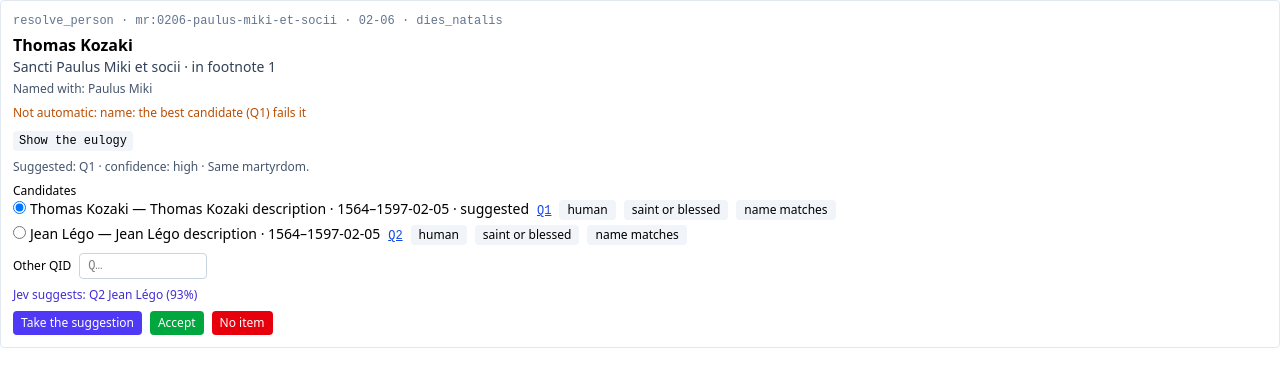
it: PersonCard, from the review of #113 › sources and Jev › takes Jev's edit and moves the selection
Expected: the text "Jev suggests: Q2 Jean Légo (93%)" is shown, [13,287,197,303]
Click the button "Take the suggestion": (77, 323) [13,311,142,335]
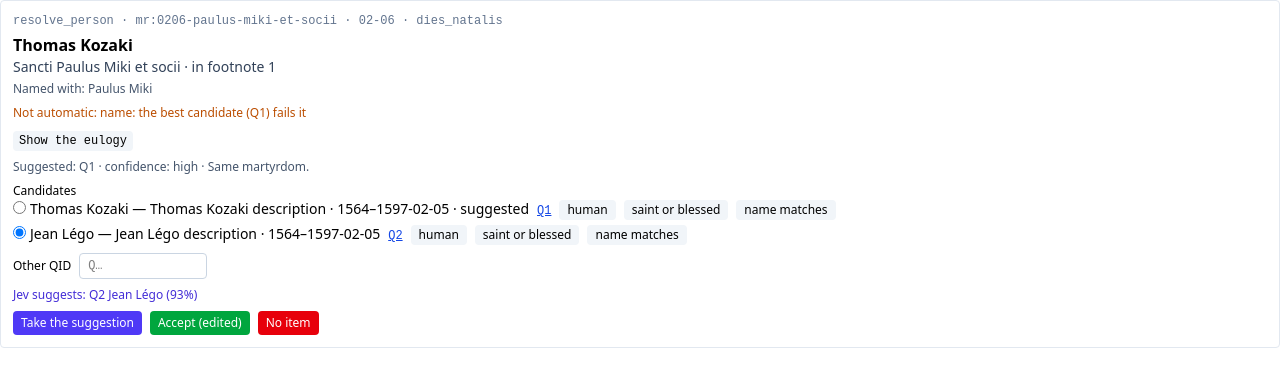
Expected: the radio button labelled "Jean Légo — Jean Légo description · 1564–1597-02-05" is checked, [13,226,26,239]
